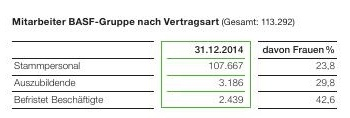table: (0, 0, 350, 118)
